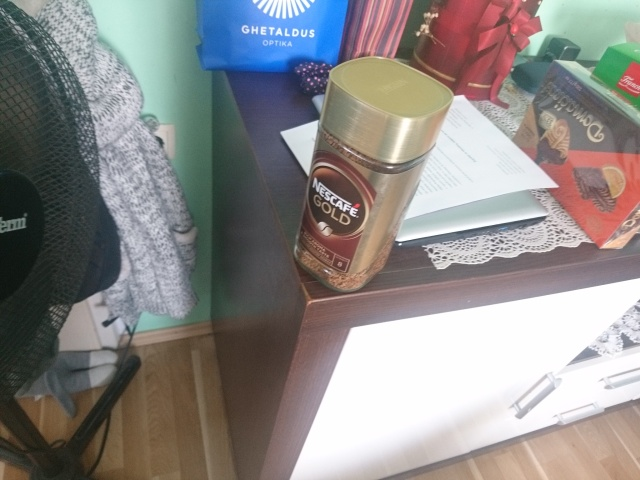Nescafe Gold 225g: (290, 53, 457, 295)
